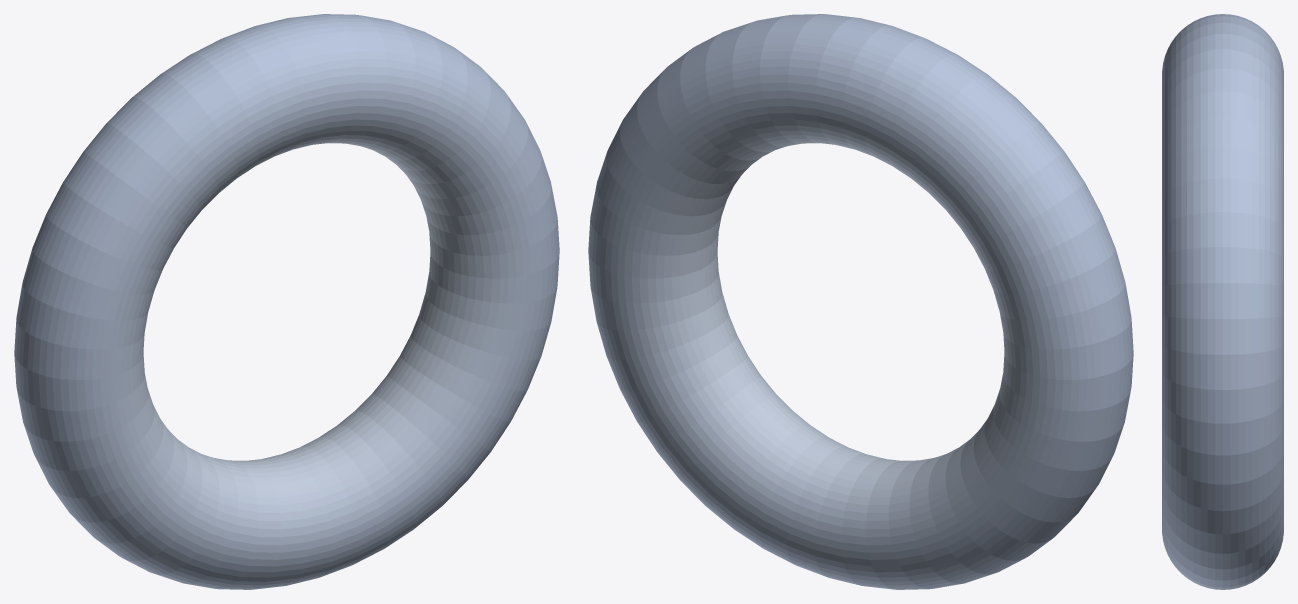
The picture shows the model from 3 angles, left to right: view 1: azimuth 30°, elevation 25°; view 2: azimuth 150°, elevation 25°; view 3: azimuth 270°, elevation 25°; orthographic projection. The views are drawn at different scales.
Parts seen in each view (by area): view 1: world; view 2: world; view 3: world.
Boxes of the visible parts, box(x1,y1,x2,y2) form: world: box(14, 14, 559, 589); world: box(588, 14, 1133, 589); world: box(1162, 14, 1283, 589).
Size of the model in its own units: 24.53 by 24.48 by 5.19.
